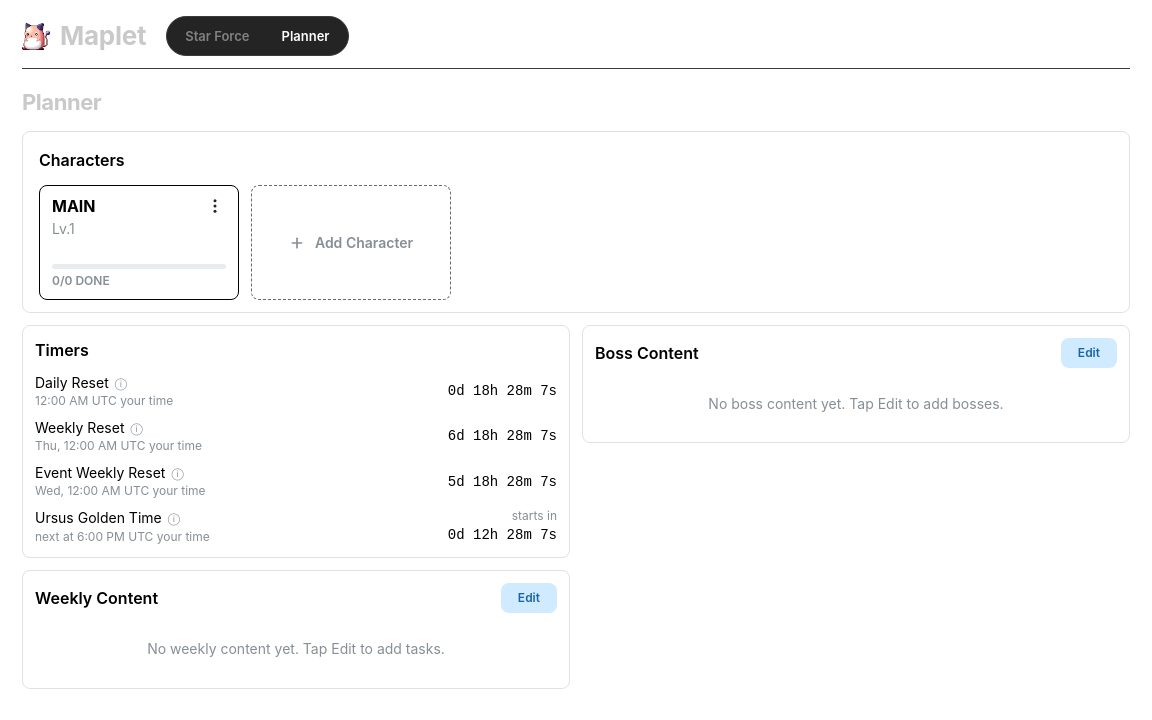
Test case: App › clamps the creation Level field to 300 on commit
The width and height of the screenshot is (1152, 720).
Click the button "Add Character" at (351, 243), box x1=251 y1=185 x2=451 y2=300
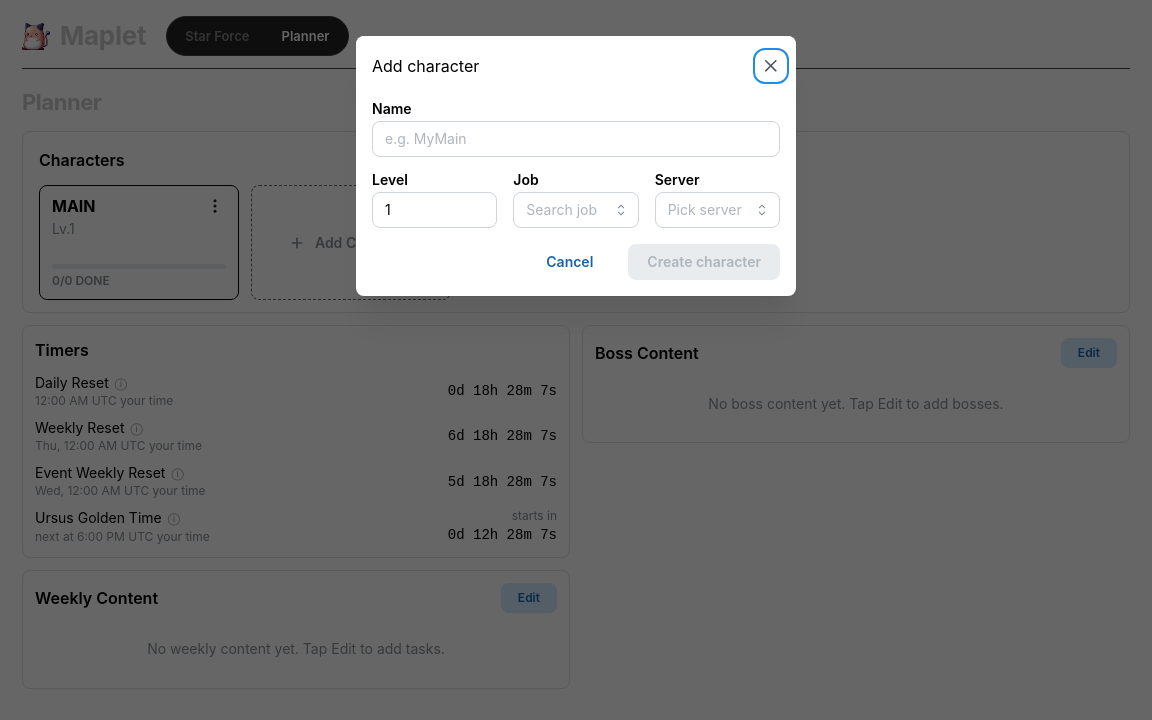
Replace the text in the field labelled "Level" with "999" at (435, 210), box x1=372 y1=192 x2=497 y2=228
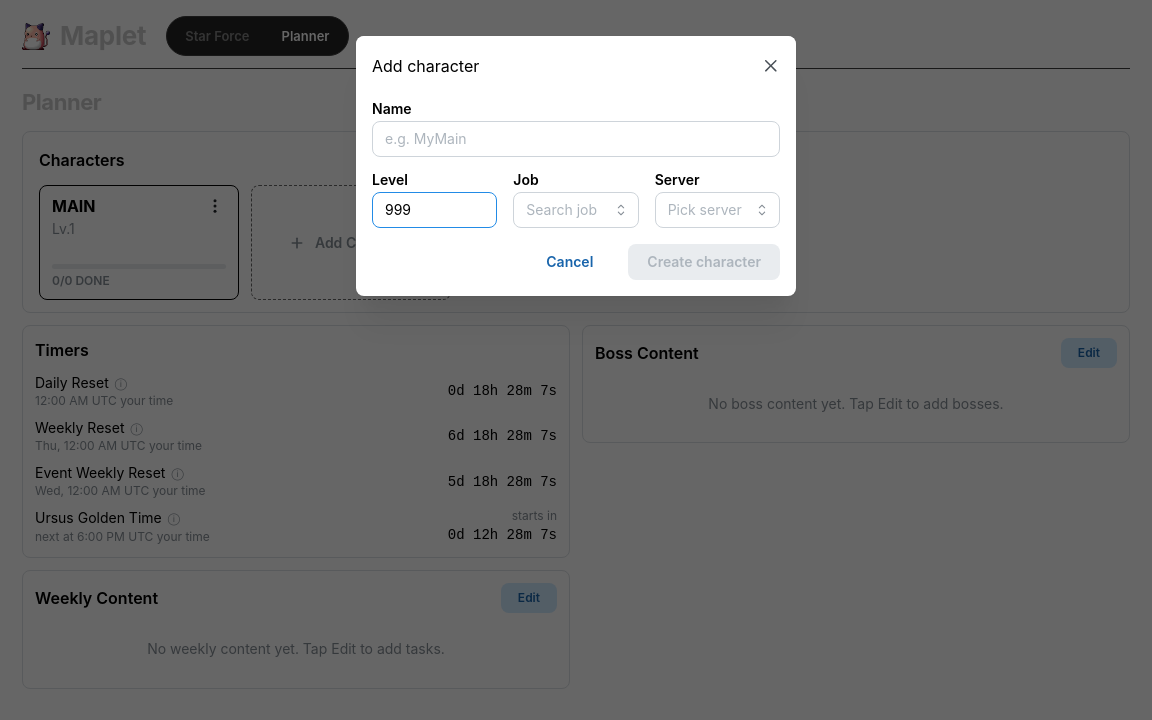
Leave the field labelled "Level", box x1=372 y1=192 x2=497 y2=228
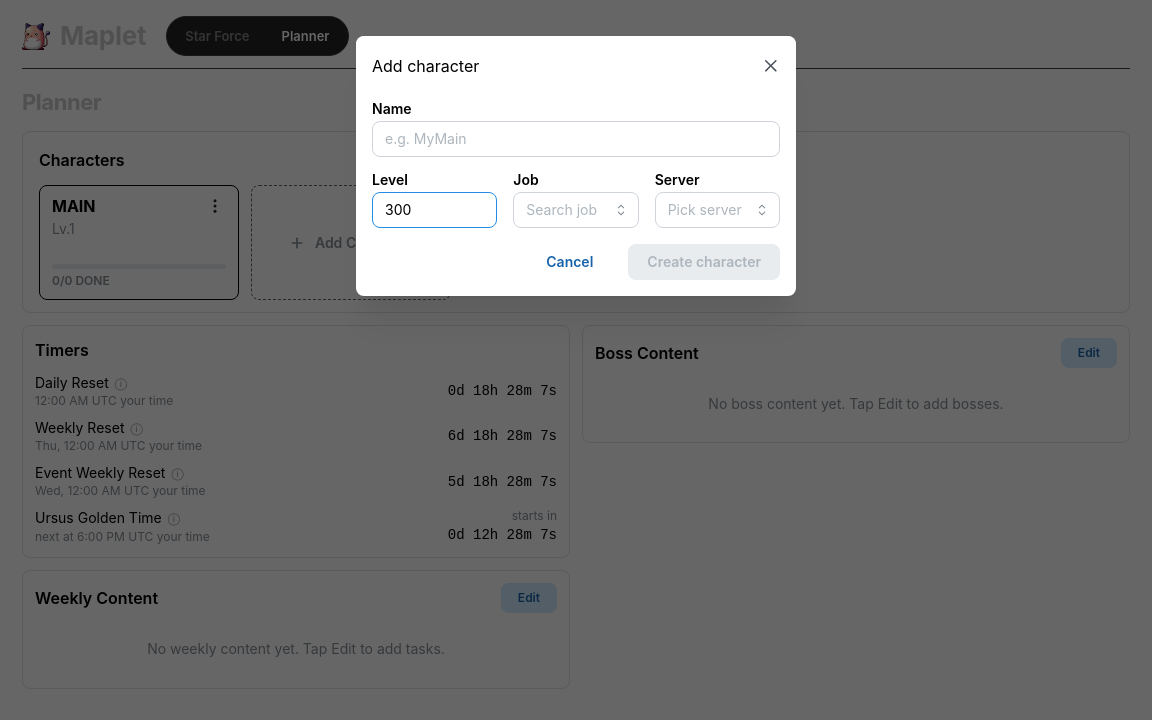
Expected: the field labelled "Level" holds "300", x1=372 y1=192 x2=497 y2=228
